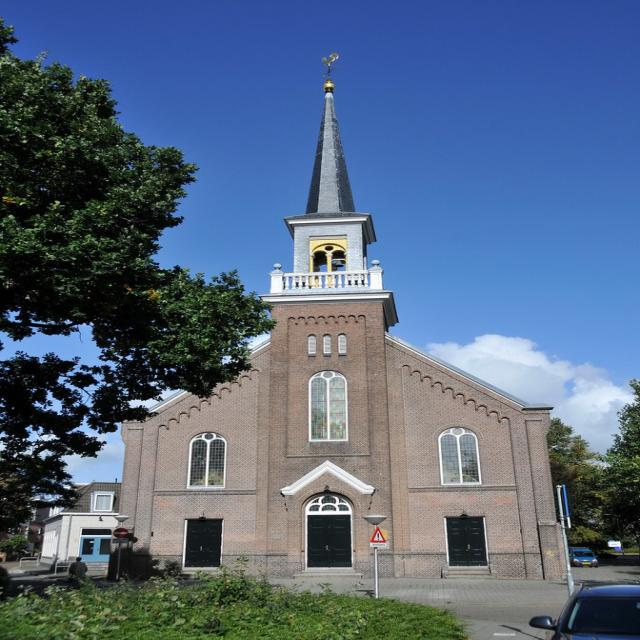car: (568, 545, 598, 565)
